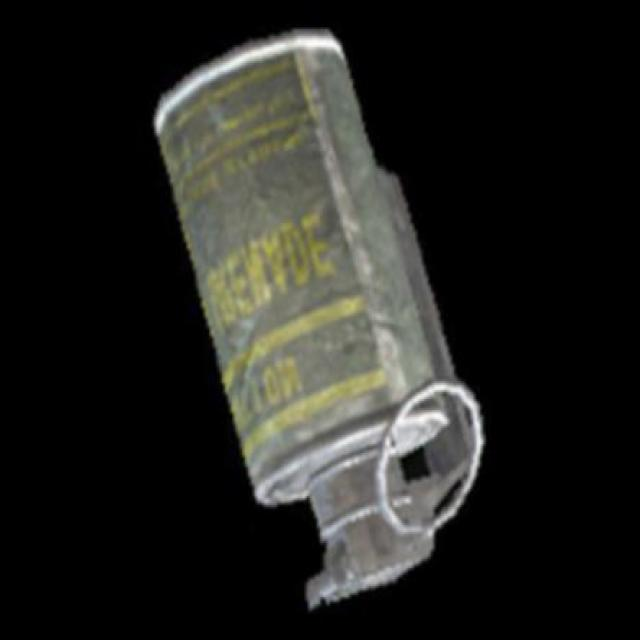grenade: (155, 32, 485, 609)
